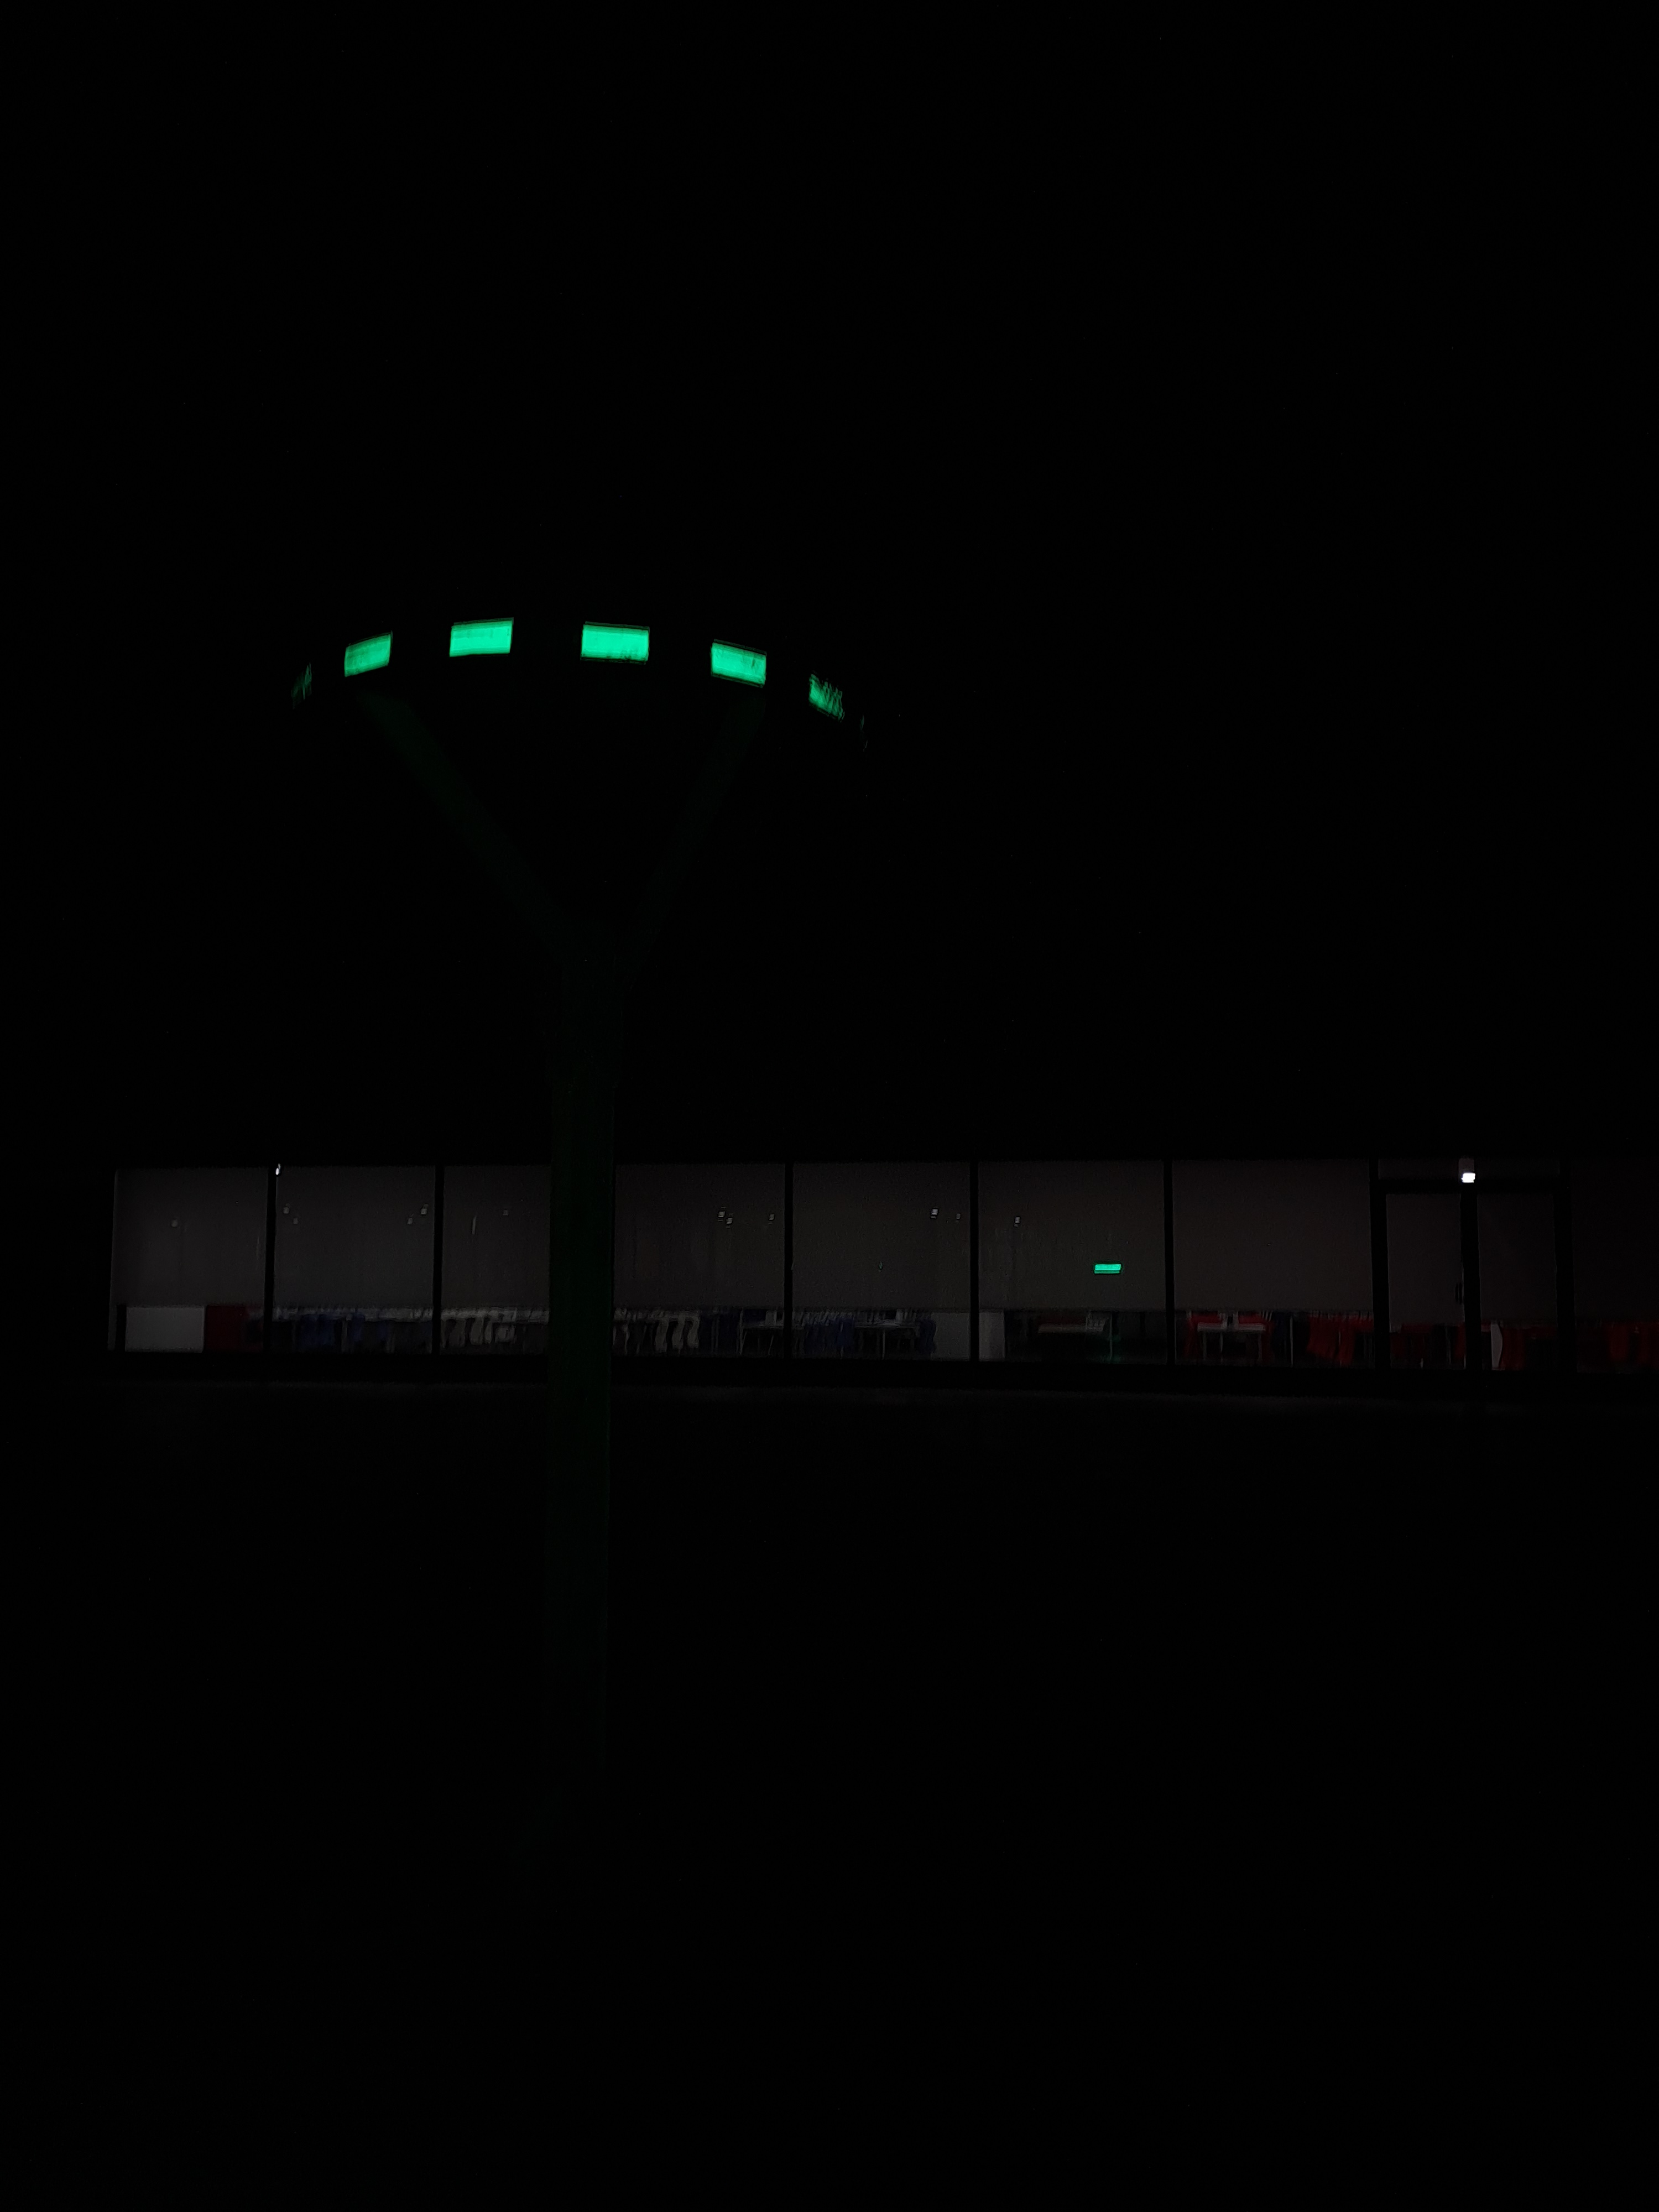hoop: (333, 611, 849, 725)
